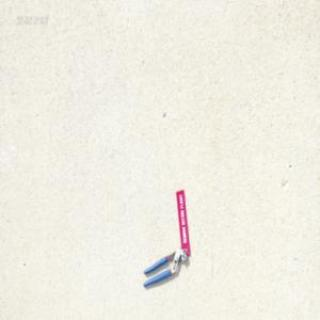LuggageTagtrack_idkeyframe: (176, 185, 190, 252)
Pliertrack_idkeyframe: (142, 247, 186, 287)
